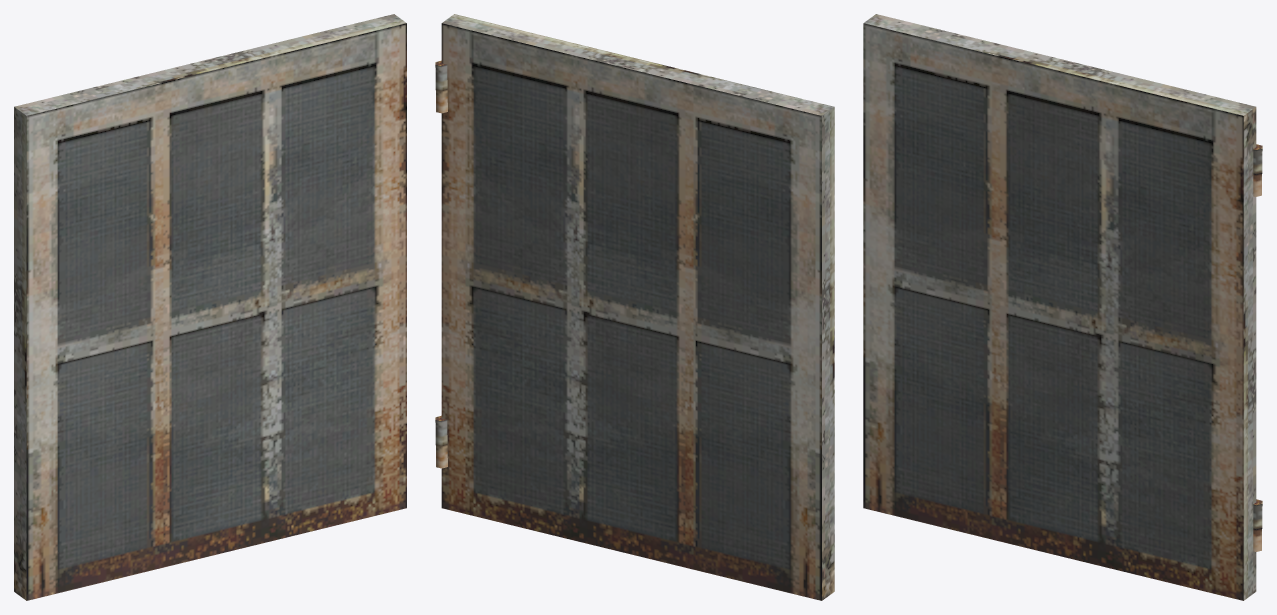
The model's file is factory_facade_01_open_window.DAE.
The picture shows the model from 3 angles, left to right: view 1: azimuth 30°, elevation 25°; view 2: azimuth 150°, elevation 25°; view 3: azimuth 330°, elevation 25°; orthographic projection.
Visible parts, largest first — view 1: Box051; view 2: Box051; view 3: Box051.
Part boxes in pixels (x1,y1,x2,y2): Box051: (14, 14, 406, 600); Box051: (435, 14, 834, 600); Box051: (863, 14, 1262, 600).
Size of the model in its own units: 1.48 by 1.78 by 0.1033.
